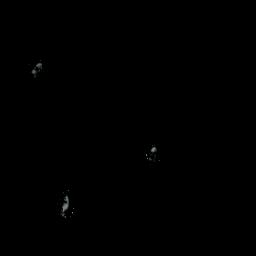boat: (54, 190, 78, 220), (143, 143, 161, 167), (26, 60, 45, 78)
